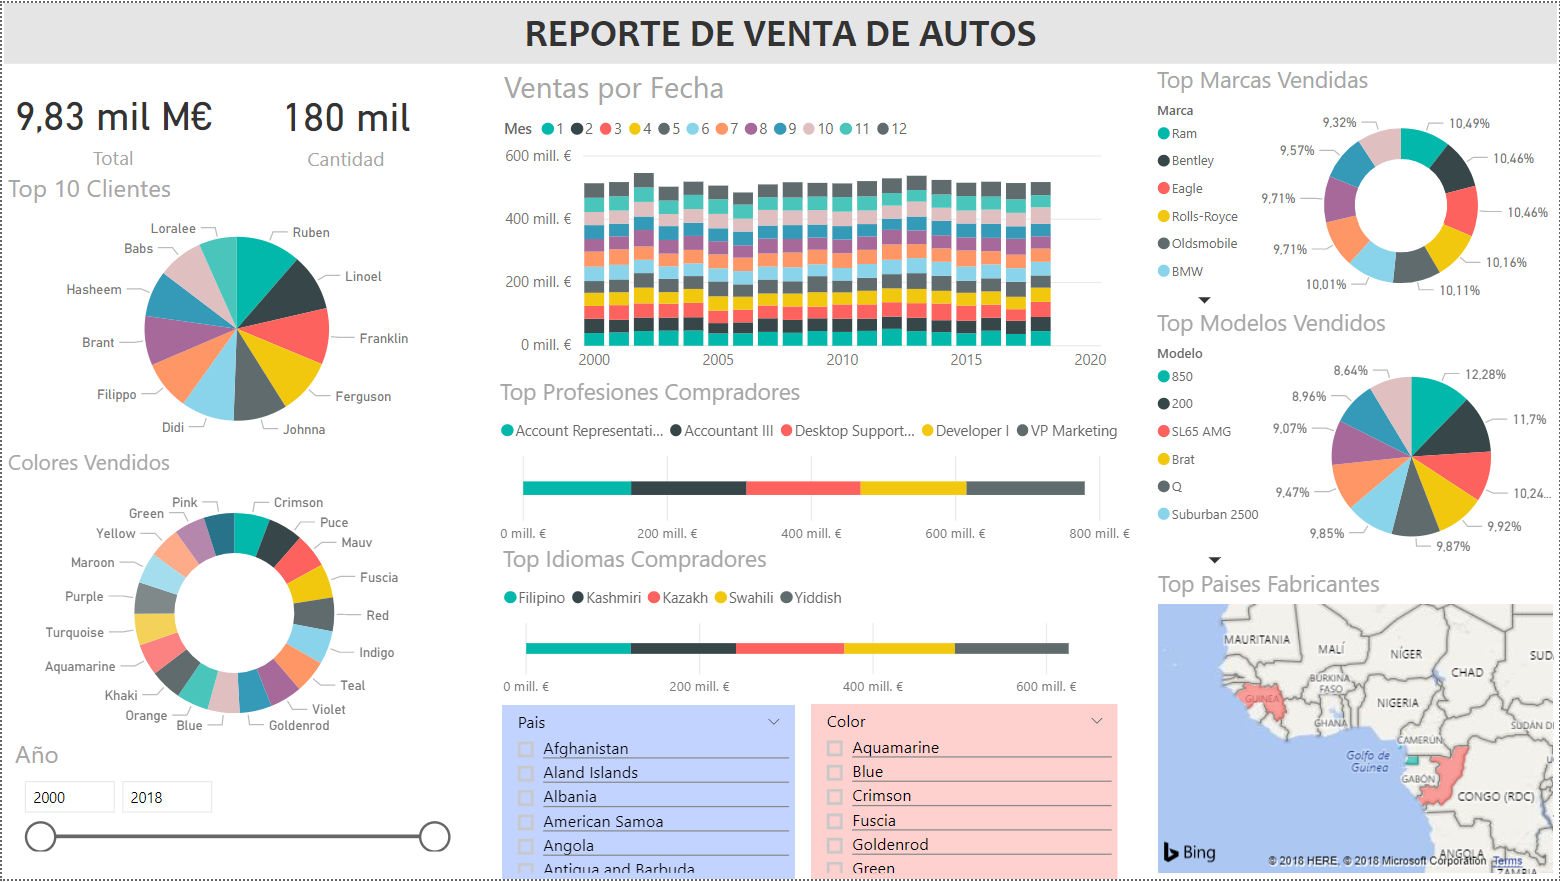

The page's visual inventory and layout, read from the dashboard file:
{"tool":"powerbi","page":{"name":"DashBoard","canvas":[1280,720],"ordinal":0},"visuals":[{"type":"columnChart","title":"Ventas por Fecha","fields":{"Category":["Fecha.IDAnno"],"Y":["Sum(Factura.Total)"],"Series":["Mes.Nombre"]},"box":[407.3,51.7,515.2,343.5],"z":0},{"type":"card","fields":{"Values":["Sum(Factura.Total)"]},"box":[0,48.5,183.3,104.4],"z":12},{"type":"card","fields":{"Values":["Sum(Factura.Cantidad)"]},"box":[183.3,49.3,198.9,104.4],"z":13},{"type":"textbox","box":[1.6,0,1276.7,50.1],"z":14},{"type":"slicer","title":"Año","fields":{"Values":["Anno.IDAnno"]},"box":[5.5,602.2,373.2,100.2],"z":1000},{"type":"slicer","fields":{"Values":["Color.Color"]},"box":[665.1,576.3,252.5,143.8],"z":2000},{"type":"pieChart","title":"Top 10 Clientes","fields":{"Category":["Factura.IDCliente"],"Series":["Nombre.Nombre"],"Y":["Sum(Factura.Total)"]},"box":[0,137.3,385.6,234.3],"z":3000},{"type":"donutChart","title":"Top Marcas Vendidas","fields":{"Category":["Marca.Marca"],"Y":["Sum(Factura.Total)"]},"box":[944.6,50.1,335.4,207.2],"z":4000},{"type":"filledMap","title":"Top Paises Fabricantes","fields":{"Size":["CountNonNull(Carro.IDCarro)"],"Category":["Pais.Pais"]},"box":[945.4,464.5,334.6,255.7],"z":5000},{"type":"slicer","fields":{"Values":["Pais.Pais"]},"box":[411,577.1,240.9,143],"z":7000},{"type":"barChart","title":"Top Idiomas Compradores","fields":{"Series":["Idioma.Idioma"],"Y":["Sum(Factura.Total)"]},"box":[407.3,399.6,552.7,179.4],"z":8000},{"type":"pieChart","title":"Top Modelos Vendidos","fields":{"Category":["Modelo.Modelo"],"Y":["Sum(Factura.Total)"]},"box":[944.6,249.9,335.4,221.1],"z":9000},{"type":"donutChart","title":"Colores Vendidos","fields":{"Series":["Color.Color"],"Y":["Sum(Factura.Total)"]},"box":[0,365,382.3,249.9],"z":10000}]}

Visuals, with their boxes in screenshot pixels (x1, y1, x2, y2), scaled from the page's 1280x720 canvas onto the 1560x882 screenshot:
"Ventas por Fecha" columnChart: <region>496, 63, 1124, 484</region>
card - Sum(Factura.Total): <region>0, 59, 223, 187</region>
card - Sum(Factura.Cantidad): <region>223, 60, 466, 188</region>
textbox: <region>2, 0, 1558, 61</region>
"Año" slicer: <region>7, 738, 462, 860</region>
slicer - Color.Color: <region>811, 706, 1118, 881</region>
"Top 10 Clientes" pieChart: <region>0, 168, 470, 455</region>
"Top Marcas Vendidas" donutChart: <region>1151, 61, 1559, 315</region>
"Top Paises Fabricantes" filledMap: <region>1152, 569, 1559, 881</region>
slicer - Pais.Pais: <region>501, 707, 795, 881</region>
"Top Idiomas Compradores" barChart: <region>496, 490, 1170, 709</region>
"Top Modelos Vendidos" pieChart: <region>1151, 306, 1559, 577</region>
"Colores Vendidos" donutChart: <region>0, 447, 466, 753</region>
